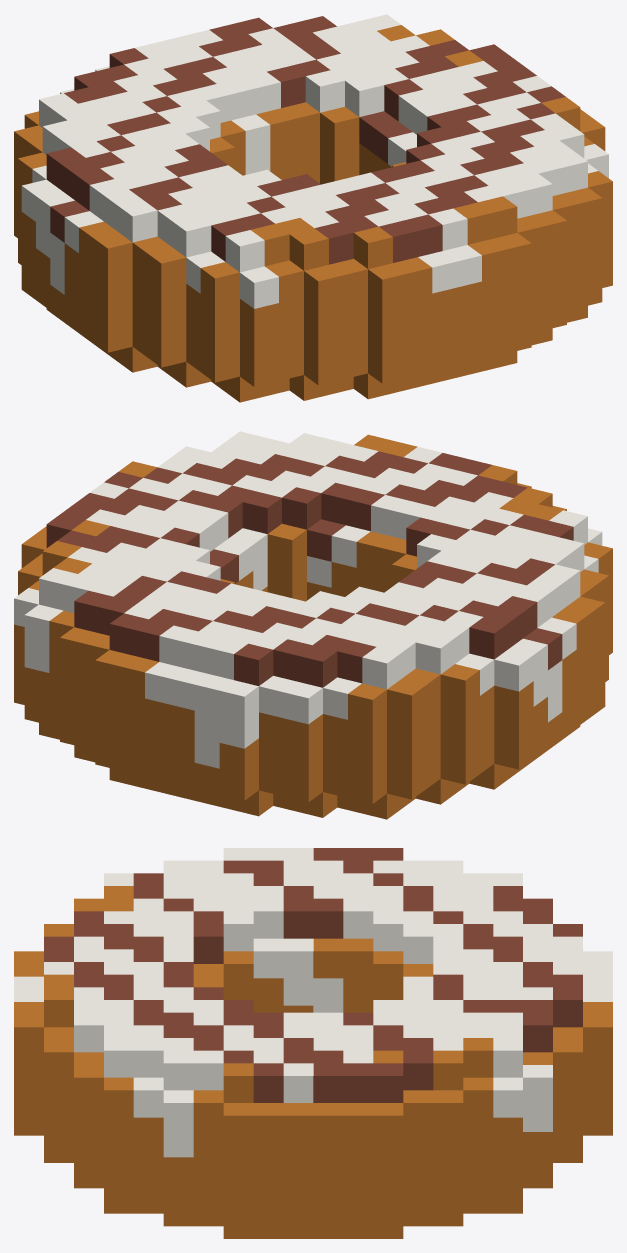
File: VanillaDonut.obj
The picture shows the model from 3 angles, top to bottom: view 1: azimuth 30°, elevation 25°; view 2: azimuth 150°, elevation 25°; view 3: azimuth 270°, elevation 25°; orthographic projection. The views are drawn at different scales.
Parts seen in each view (by area): view 1: Untitled.002; view 2: Untitled.002; view 3: Untitled.002.
Part boxes in pixels (x1,y1,x2,y2): Untitled.002: (14, 14, 612, 402); Untitled.002: (14, 431, 612, 819); Untitled.002: (14, 848, 612, 1238).
Bounding box in the file's own units: 3.8 × 1.14 × 3.8.
Materials: 1 (1 with a texture image).
